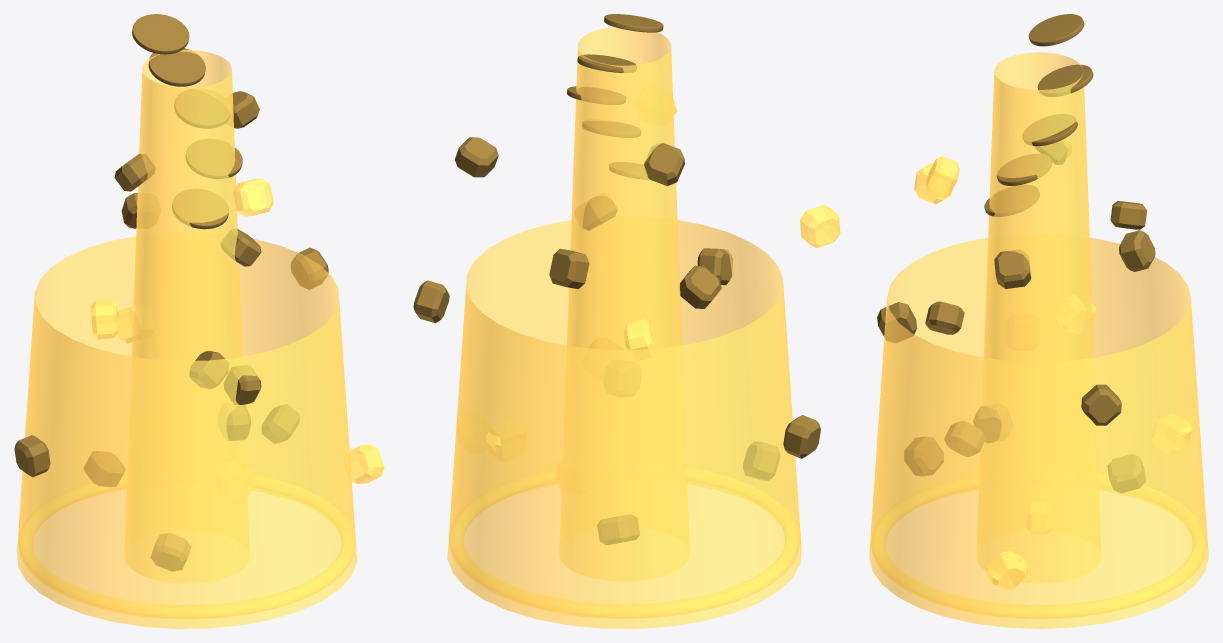
File: vfx_tower_sell.glb
3 views of the same model, side by side, from view 1: azimuth 30°, elevation 25°; view 2: azimuth 150°, elevation 25°; view 3: azimuth 270°, elevation 25° (orthographic). The views are drawn at different scales.
Parts seen in each view (by area): view 1: sell_ghost, sell_column, sell_ring, sell_coin4, sell_coin0, sell_coin1, sell_coin3, sell_coin2, sell_cube9, sell_cube12, sell_cube2, sell_cube11 (+11 smaller); view 2: sell_ghost, sell_column, sell_ring, sell_cube3, sell_cube4, sell_cube14, sell_cube6, sell_cube13, sell_cube17, sell_cube11, sell_cube7, sell_cube10 (+8 smaller); view 3: sell_ghost, sell_column, sell_ring, sell_coin4, sell_coin3, sell_coin2, sell_coin1, sell_coin0, sell_cube7, sell_cube2, sell_cube6, sell_cube8 (+12 smaller).
Part boxes in pixels (bbox=[...]): sell_ghost: bbox=[17, 236, 357, 628]; sell_column: bbox=[124, 50, 249, 582]; sell_ring: bbox=[18, 474, 355, 618]; sell_coin4: bbox=[132, 14, 189, 54]; sell_coin0: bbox=[172, 189, 228, 229]; sell_coin1: bbox=[185, 139, 242, 178]; sell_coin3: bbox=[148, 48, 205, 86]; sell_coin2: bbox=[174, 89, 230, 128]; sell_cube9: bbox=[233, 178, 273, 216]; sell_cube12: bbox=[117, 304, 154, 343]; sell_cube2: bbox=[224, 365, 261, 404]; sell_cube11: bbox=[14, 435, 50, 477]; sell_ghost: bbox=[447, 220, 801, 628]; sell_column: bbox=[559, 27, 689, 580]; sell_ring: bbox=[449, 467, 799, 618]; sell_cube3: bbox=[800, 204, 840, 248]; sell_cube4: bbox=[644, 142, 684, 186]; sell_cube14: bbox=[455, 137, 498, 177]; sell_cube6: bbox=[486, 419, 527, 462]; sell_cube13: bbox=[549, 248, 589, 288]; sell_cube17: bbox=[680, 265, 721, 308]; sell_cube11: bbox=[783, 415, 820, 458]; sell_cube7: bbox=[413, 280, 449, 323]; sell_cube10: bbox=[743, 441, 779, 480]; sell_ghost: bbox=[869, 238, 1208, 628]; sell_column: bbox=[976, 52, 1101, 582]; sell_ring: bbox=[871, 474, 1206, 618]; sell_coin4: bbox=[1028, 14, 1084, 46]; sell_coin3: bbox=[1037, 64, 1093, 96]; sell_coin2: bbox=[1022, 114, 1077, 146]; sell_coin1: bbox=[996, 154, 1051, 185]; sell_coin0: bbox=[984, 185, 1039, 216]; sell_cube7: bbox=[1081, 384, 1121, 425]; sell_cube2: bbox=[877, 302, 917, 342]; sell_cube6: bbox=[1151, 413, 1192, 454]; sell_cube8: bbox=[994, 249, 1031, 288].
Size of the model in its own units: 2.26 by 3.26 by 1.9.
